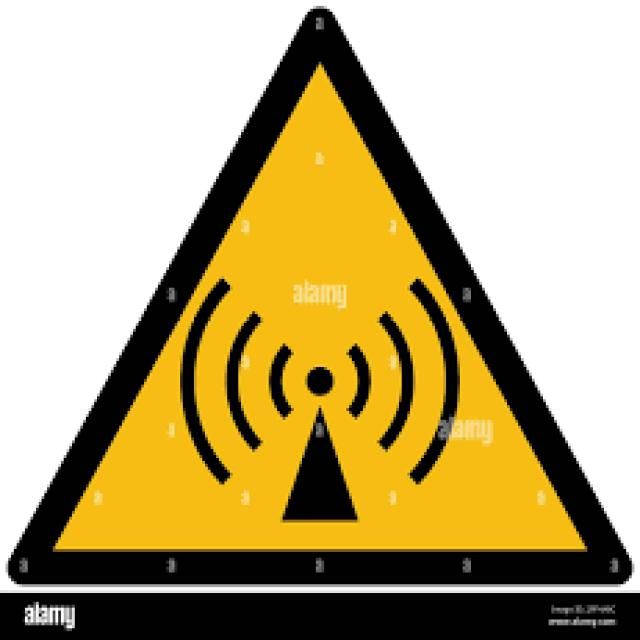non-ionizing-radiation: (28, 14, 624, 593)
